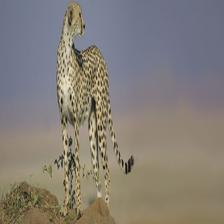Cheetah: (54, 1, 138, 218)
